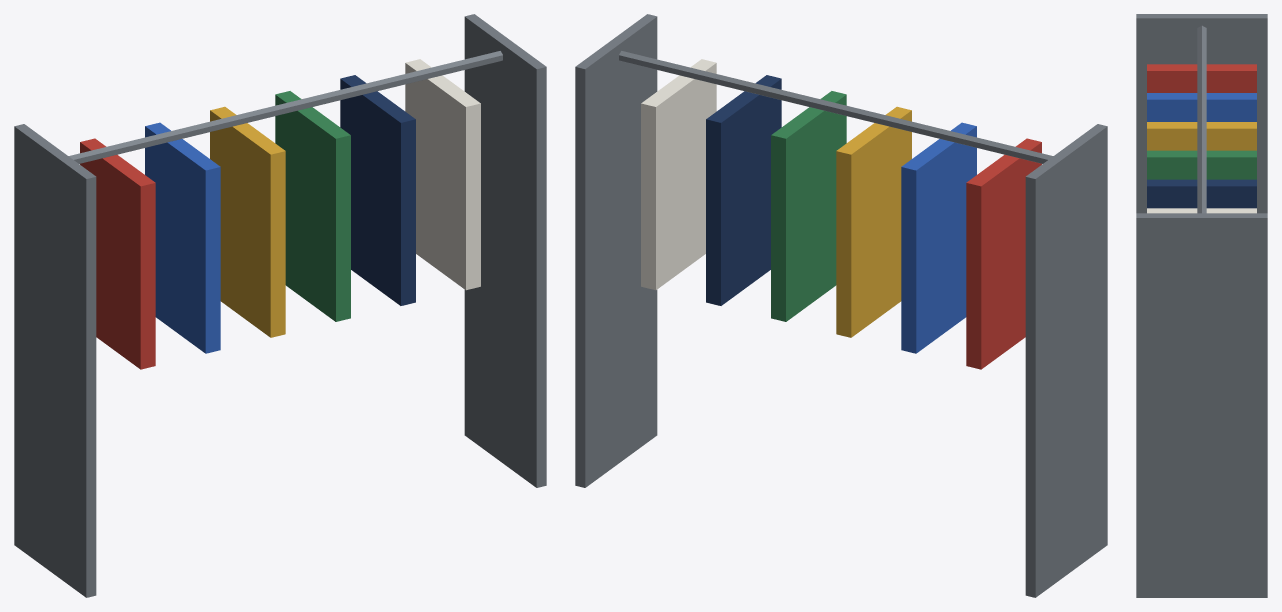
File: clothes_rack.glb
The picture shows the model from 3 angles, left to right: view 1: azimuth 30°, elevation 25°; view 2: azimuth 150°, elevation 25°; view 3: azimuth 270°, elevation 25°; orthographic projection. The views are drawn at different scales.
Parts seen in each view (by area): view 1: clothes_rack_Body; view 2: clothes_rack_Body; view 3: clothes_rack_Body.
Boxes of the visible parts, box(x1,y1,x2,y2) form: clothes_rack_Body: box(14, 14, 546, 597); clothes_rack_Body: box(575, 14, 1107, 597); clothes_rack_Body: box(1136, 14, 1267, 597).
Size of the model in its own units: 1.84 by 1.6 by 0.5.
